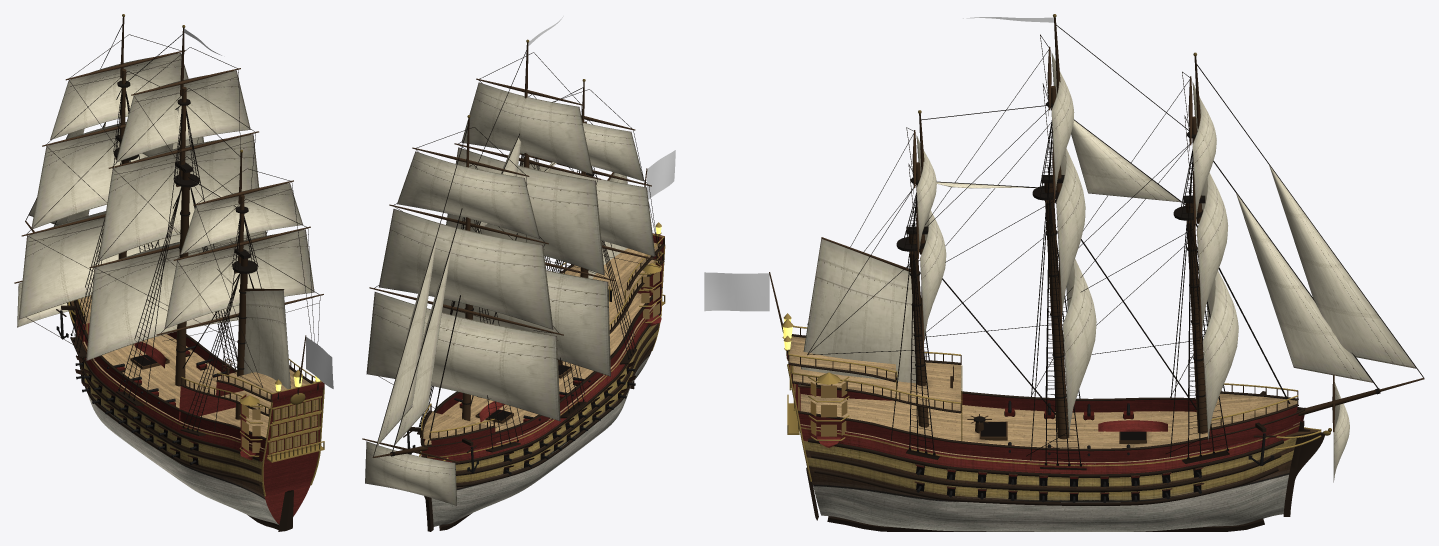
Rendered from galleon.gltf.
3 renders of one model, left to right at view 1: azimuth 30°, elevation 25°; view 2: azimuth 150°, elevation 25°; view 3: azimuth 270°, elevation 25°, orthographic. The views are drawn at different scales.
Visible parts, largest first — view 1: Hull, Sail_1_1_E, Sail_1_0, Sail_2_1, Sail_1_2, Sail_0_0, Sail_0_1_E, Sail_0_2, Sail_2_2, Sail_spanker, Flag, Sail_sprit; view 2: Hull, Sail_0_0, Sail_0_1_E, Sail_1_1_E, Sail_1_2, Sail_0_2, Sail_1_0, Sail_2_1, Sail_sprit, Sail_jib_1, Sail_jib_0, Sail_2_2 (+3 smaller); view 3: Hull, Sail_spanker, Sail_jib_1, Sail_jib_0, Sail_stay_1, Sail_0_0, Sail_1_0, Sail_0_1_E, Sail_1_1_E, Flag, Sail_2_1, Sail_0_2 (+3 smaller).
Part boxes in pixels (x1,y1,x2,y2): Hull: (14,14,324,531); Sail_1_1_E: (98,134,259,261); Sail_1_0: (86,231,266,360); Sail_2_1: (164,229,314,328); Sail_1_2: (116,70,250,162); Sail_0_0: (18,211,180,319); Sail_0_1_E: (31,122,203,229); Sail_0_2: (50,53,188,139); Sail_2_2: (180,183,302,254); Sail_spanker: (243,289,290,389); Flag: (306,337,333,388); Sail_sprit: (17,282,68,327); Hull: (362,39,665,531); Sail_0_0: (366,292,560,421); Sail_0_1_E: (379,209,553,329); Sail_1_1_E: (446,147,604,275); Sail_1_2: (461,82,592,174); Sail_0_2: (397,151,539,238); Sail_1_0: (442,270,610,376); Sail_2_1: (519,157,655,256); Sail_sprit: (365,441,456,505); Sail_jib_1: (377,233,437,445); Sail_jib_0: (395,247,451,444); Sail_2_2: (583,123,644,181); Hull: (769,14,1424,531); Sail_spanker: (798,238,919,385); Sail_jib_1: (1269,165,1416,368); Sail_jib_0: (1236,193,1372,382); Sail_stay_1: (1071,120,1180,202); Sail_0_0: (1202,271,1238,440); Sail_1_0: (1062,259,1096,437); Sail_0_1_E: (1196,172,1228,330); Sail_1_1_E: (1056,148,1085,315); Flag: (704,272,769,311); Sail_2_1: (920,210,946,341); Sail_0_2: (1192,82,1216,219).
Size of the model in its own units: 21.89 by 46.67 by 58.82.
Materials: 18 (4 with a texture image).
